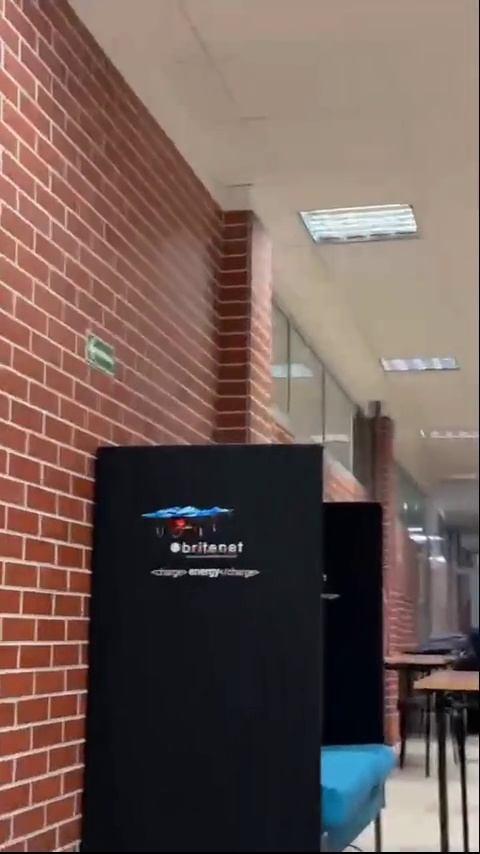drone: (141, 505, 233, 541)
